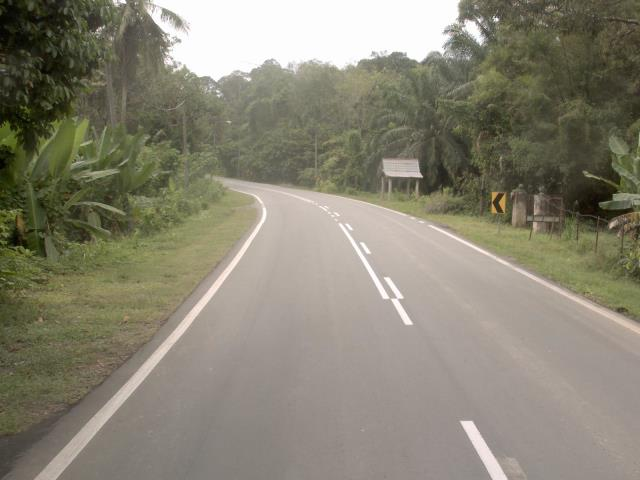traffic_sign: (484, 187, 509, 219)
